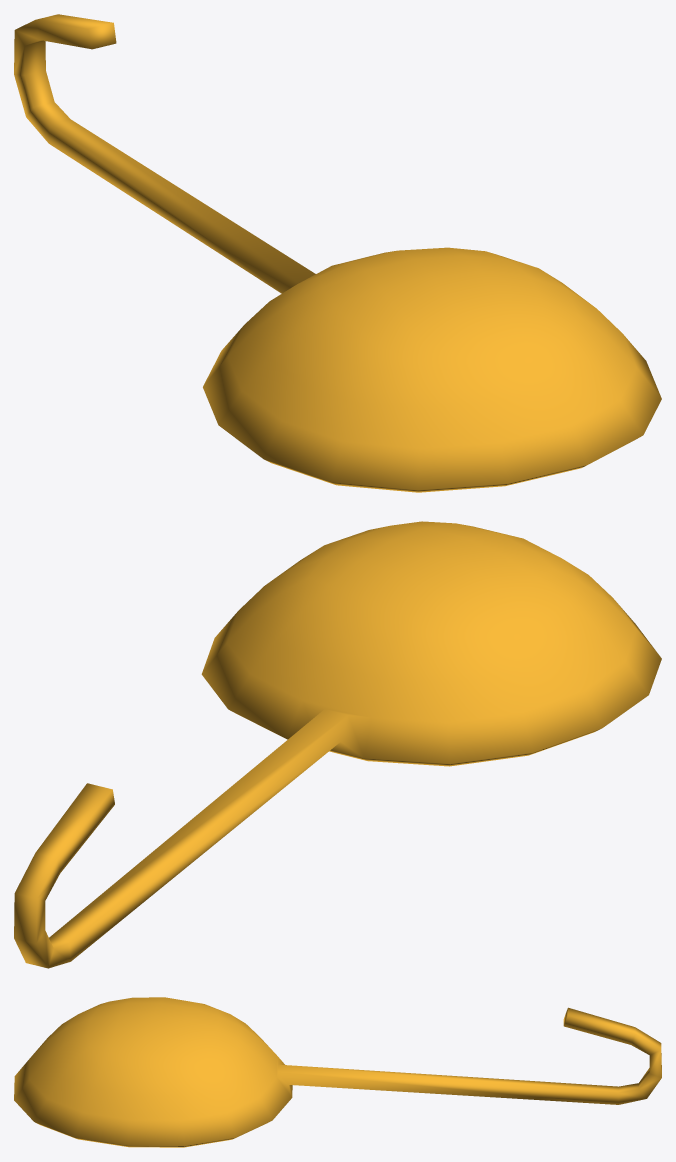
Rendered from mitten.fbx.
3 views of the same model, one above another, from view 1: azimuth 30°, elevation 25°; view 2: azimuth 150°, elevation 25°; view 3: azimuth 270°, elevation 25° (orthographic). The views are drawn at different scales.
Visible parts, largest first — view 1: Cube.008; view 2: Cube.008; view 3: Cube.008.
Boxes of the visible parts, bbox=[...] form: Cube.008: bbox=[14, 14, 661, 492]; Cube.008: bbox=[14, 521, 661, 968]; Cube.008: bbox=[14, 997, 661, 1147].
Bounding box in the file's own units: 3.1 × 1.11 × 7.21.
